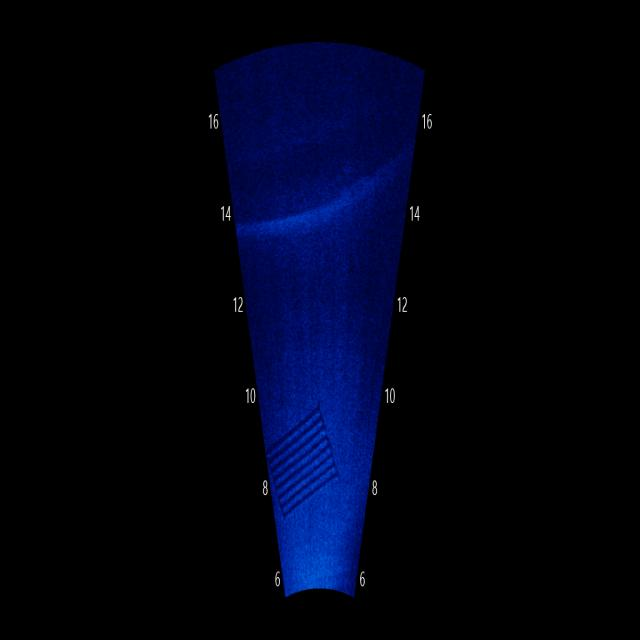square: (265, 380, 345, 527)
